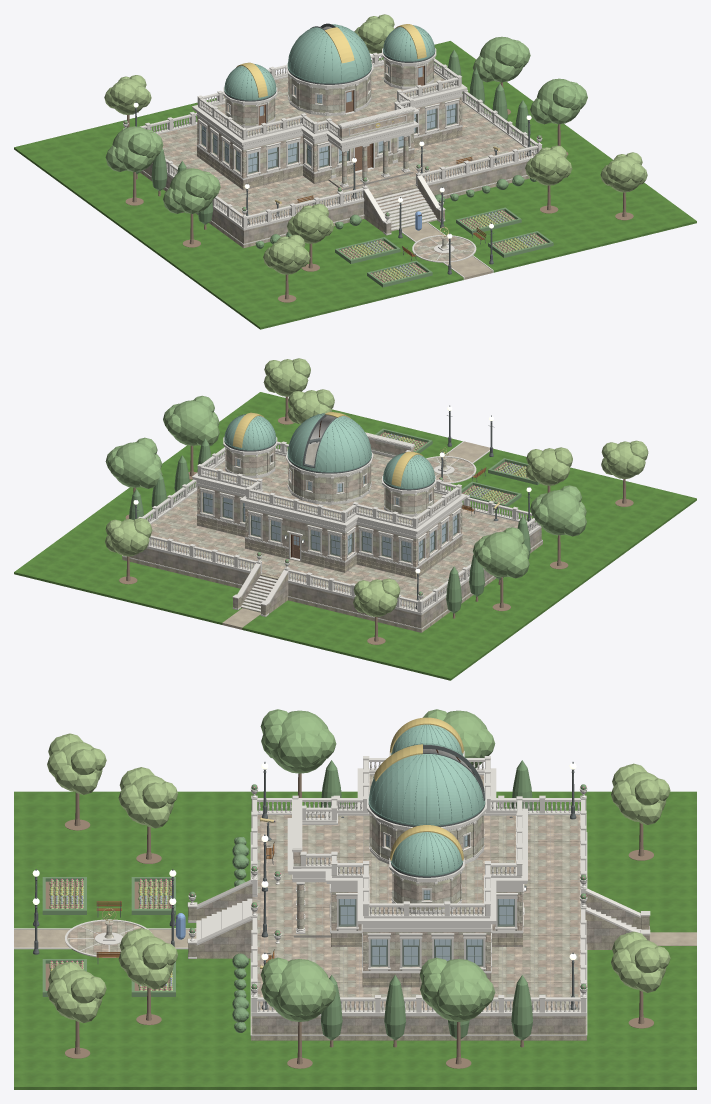
File: building_assembled.glb
The picture shows the model from 3 angles, top to bottom: view 1: azimuth 30°, elevation 25°; view 2: azimuth 150°, elevation 25°; view 3: azimuth 270°, elevation 25°; orthographic projection. The views are drawn at different scales.
Visible parts, largest first — view 1: geometry_658, geometry_661, geometry_660, geometry_351, geometry_668, geometry_385, geometry_373, geometry_663, geometry_664, geometry_731, geometry_728, geometry_784 (+24 smaller); view 2: geometry_658, geometry_661, geometry_351, geometry_660, geometry_668, geometry_385, geometry_373, geometry_728, geometry_731, geometry_781, geometry_784, geometry_377 (+17 smaller); view 3: geometry_658, geometry_661, geometry_351, geometry_660, geometry_668, geometry_373, geometry_385, geometry_781, geometry_784, geometry_731, geometry_719, geometry_722 (+26 smaller).
Part boxes in pixels (x1,y1,x2,y2): geometry_658: (14, 41, 696, 329); geometry_661: (158, 102, 534, 261); geometry_660: (122, 89, 542, 279); geometry_351: (192, 52, 467, 180); geometry_668: (140, 161, 529, 248); geometry_385: (288, 24, 371, 82); geometry_373: (207, 65, 452, 135); geometry_663: (335, 207, 553, 287); geometry_664: (340, 210, 546, 282); geometry_731: (163, 168, 220, 213); geometry_728: (105, 126, 163, 171); geometry_784: (530, 78, 587, 124); geometry_658: (14, 392, 696, 680); geometry_661: (150, 457, 531, 609); geometry_351: (192, 432, 467, 568); geometry_660: (122, 441, 542, 629); geometry_668: (122, 488, 542, 632); geometry_385: (288, 413, 371, 471); geometry_373: (206, 453, 451, 524); geometry_728: (473, 527, 529, 578); geometry_731: (530, 485, 586, 536); geometry_781: (105, 437, 162, 488); geometry_784: (163, 395, 219, 445); geometry_377: (288, 463, 371, 501); geometry_658: (14, 791, 696, 1089); geometry_661: (67, 815, 580, 1010); geometry_351: (287, 756, 527, 973); geometry_660: (14, 795, 650, 1035); geometry_668: (188, 884, 649, 1040); geometry_373: (301, 775, 515, 914); geometry_385: (369, 743, 484, 824); geometry_781: (419, 957, 495, 1021); geometry_784: (260, 957, 336, 1021); geometry_731: (260, 709, 336, 773); geometry_719: (118, 767, 177, 828); geometry_722: (47, 733, 106, 794).
Size of the model in its own units: 44 by 13.5 by 43.
Materials: 50 (10 with a texture image).
